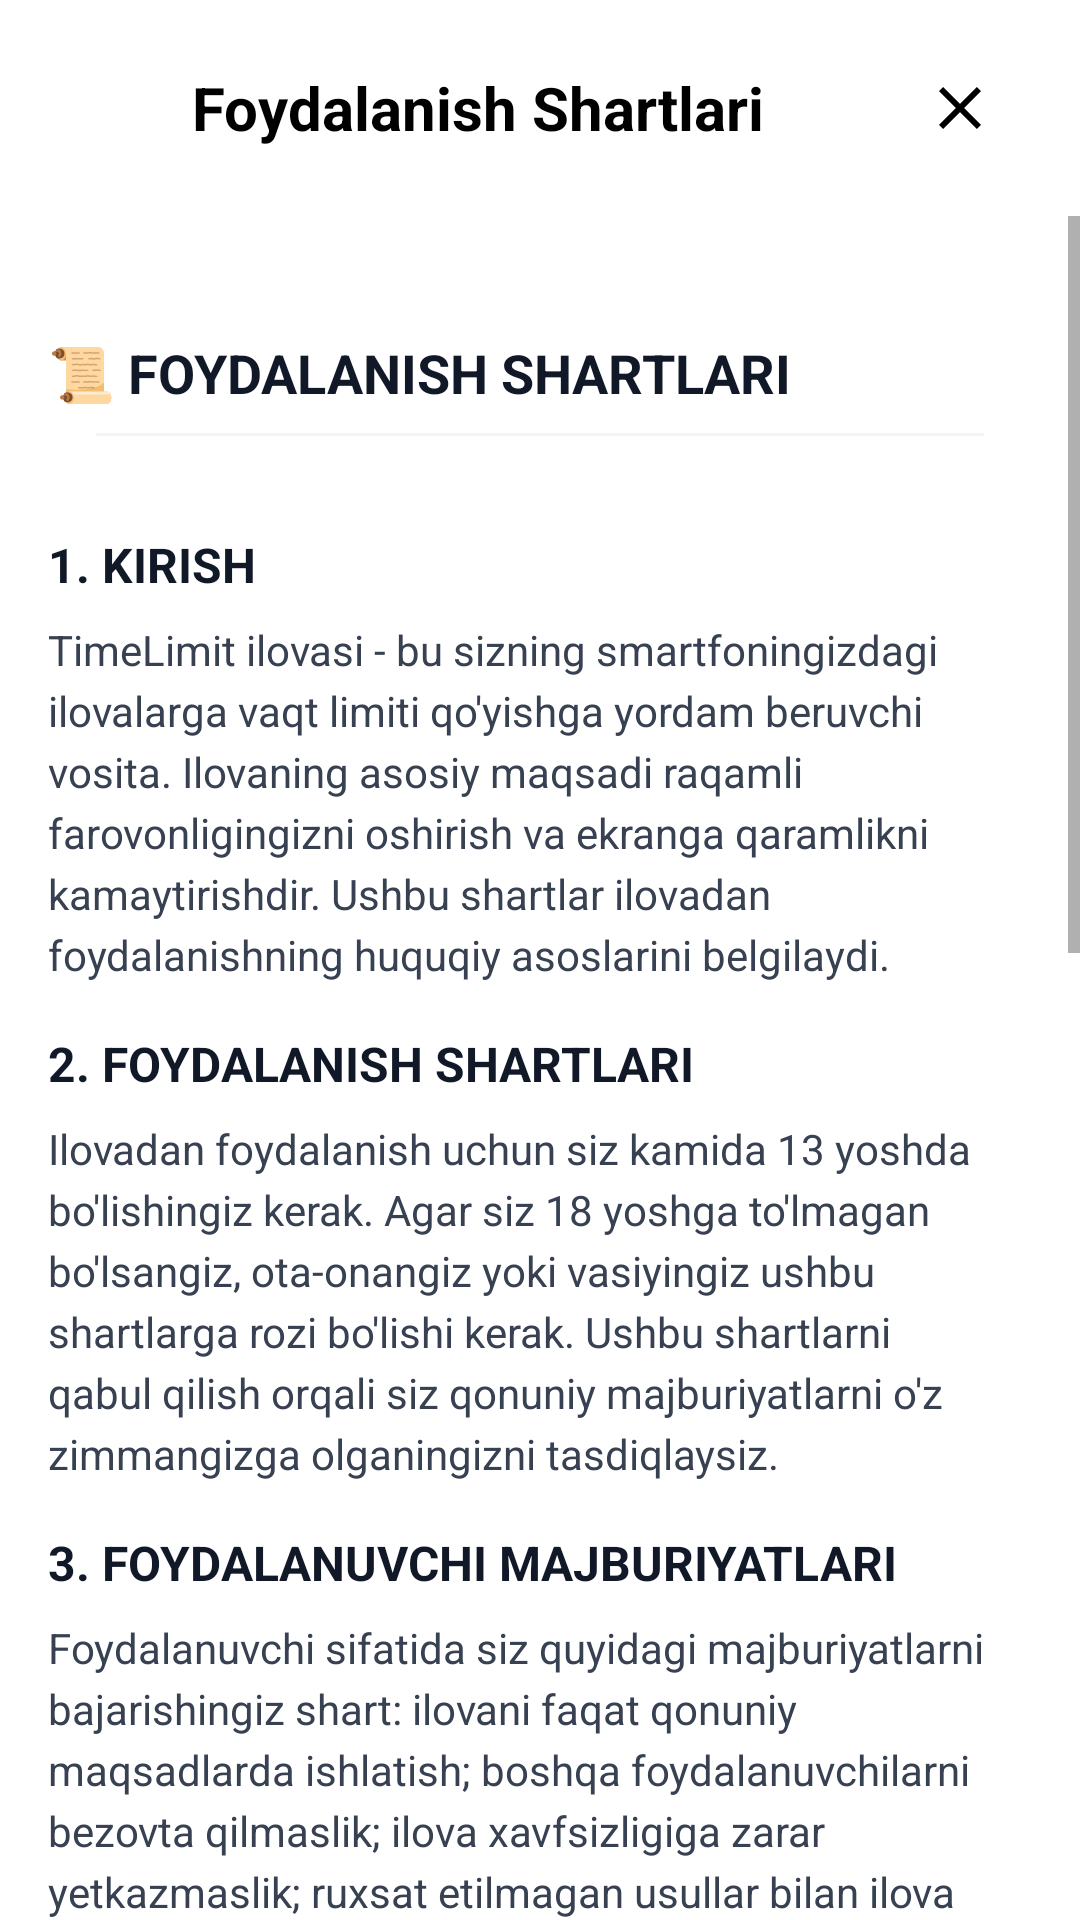

Screen size 1080x1920. Icon name, then its box in pixels as box=[x1, y1, x2, y2]:
close: box=[939, 87, 981, 129]
